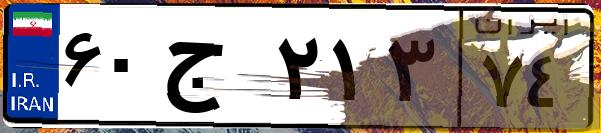0: (110, 28, 158, 98)
1: (330, 28, 385, 110)
2: (270, 28, 330, 110)
3: (385, 28, 445, 110)
4: (525, 38, 570, 115)
6: (57, 26, 110, 100)
7: (475, 38, 525, 113)
ج: (158, 20, 270, 120)
